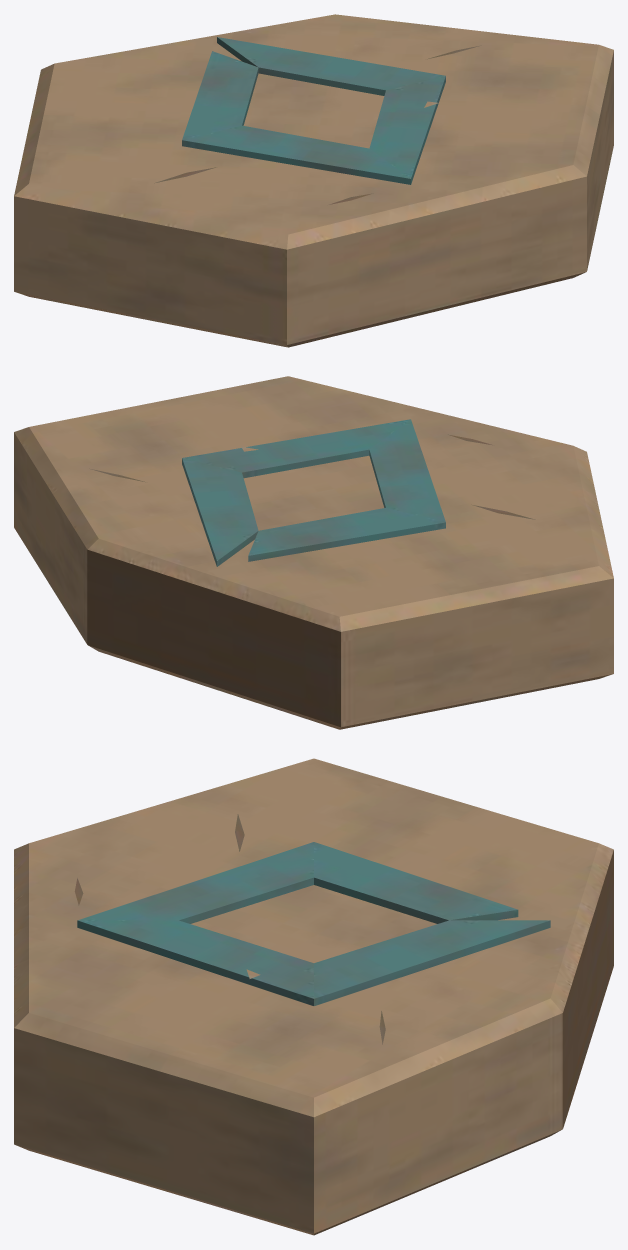
Rendered from P22_symbol_tokens_v4.glb.
The picture shows the model from 3 angles, top to bottom: view 1: azimuth 30°, elevation 25°; view 2: azimuth 150°, elevation 25°; view 3: azimuth 270°, elevation 25°; orthographic projection. The views are drawn at different scales.
Parts seen in each view (by area): view 1: Wooden_token; view 2: Wooden_token; view 3: Wooden_token.
Part boxes in pixels (x1,y1,x2,y2): Wooden_token: (14, 14, 613, 347); Wooden_token: (14, 376, 613, 729); Wooden_token: (14, 758, 613, 1235).
Size of the model in its own units: 0.1 by 0.019 by 0.071.
Materials: 3 (3 with a texture image).
